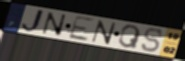E: (66, 15, 95, 43)
J: (20, 8, 46, 34)
N: (90, 19, 118, 46), (41, 11, 68, 38)
Q: (117, 24, 142, 50)
S: (140, 27, 164, 53)
